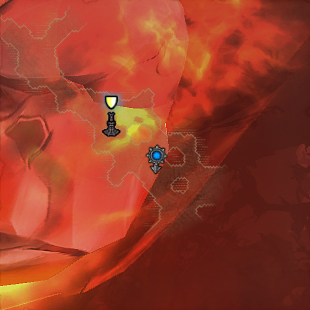ShieldPylon: (102, 92, 122, 137)
